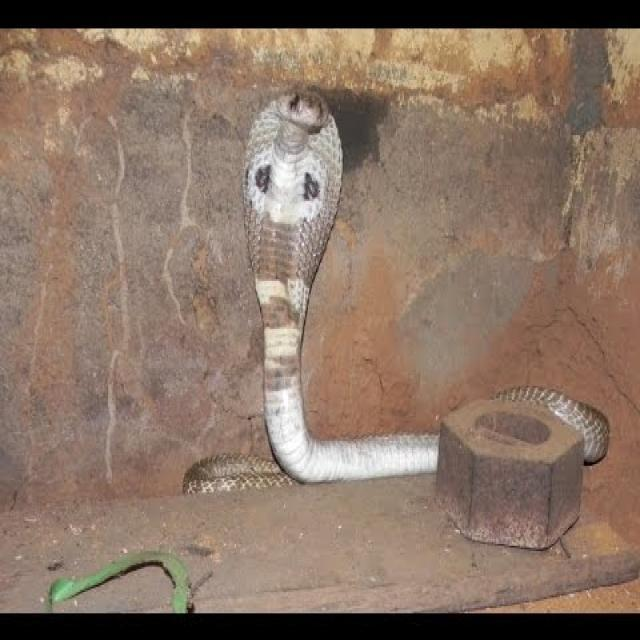Snake: (180, 87, 610, 494)
